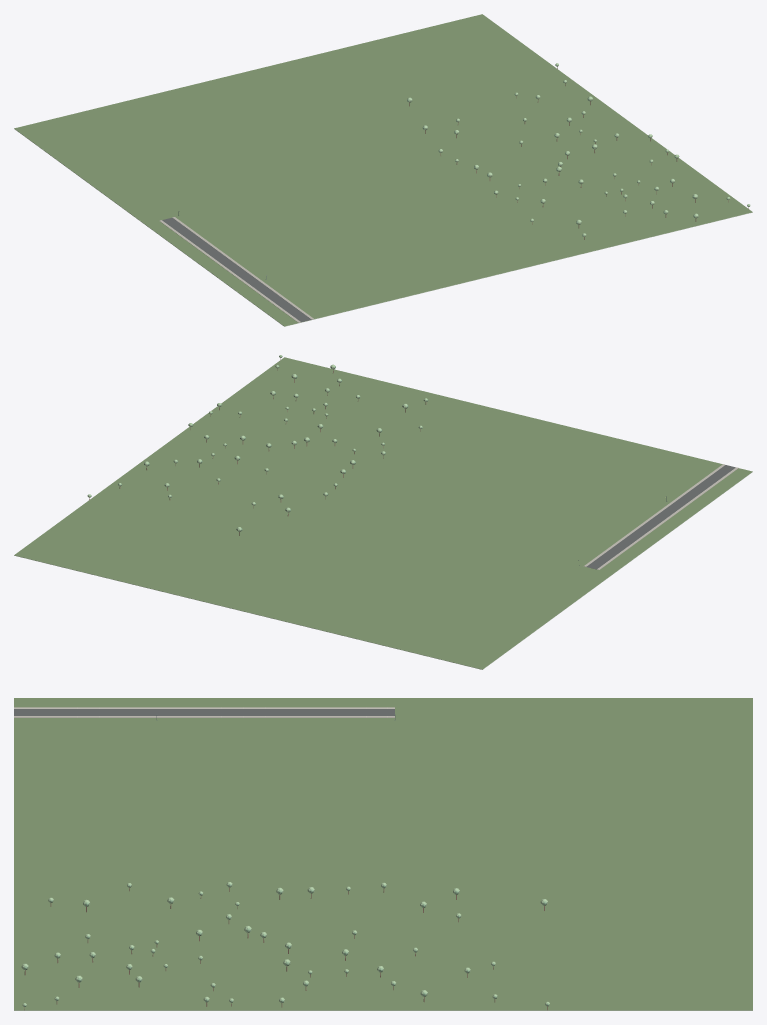
File: chunk_2_0_high.glb
3 renders of one model, top to bottom at view 1: azimuth 30°, elevation 25°; view 2: azimuth 150°, elevation 25°; view 3: azimuth 270°, elevation 25°, orthographic. The views are drawn at different scales.
Parts seen in each view (by area): view 1: city_forest_floor, city_world_asphalt, city_world_sidewalk, city_foliage, city_grass; view 2: city_forest_floor, city_world_asphalt, city_foliage, city_world_sidewalk, city_grass; view 3: city_forest_floor, city_world_asphalt, city_world_sidewalk, city_foliage, city_grass, city_foliage_dark.
Boxes of the visible parts, left/top/right/bottom form: city_forest_floor: left=14, top=14, right=752, bottom=326; city_world_asphalt: left=162, top=217, right=311, bottom=322; city_world_sidewalk: left=159, top=217, right=313, bottom=322; city_foliage: left=407, top=63, right=750, bottom=236; city_grass: left=14, top=129, right=752, bottom=326; city_forest_floor: left=14, top=357, right=752, bottom=669; city_world_asphalt: left=586, top=465, right=735, bottom=569; city_foliage: left=87, top=355, right=427, bottom=531; city_world_sidewalk: left=584, top=464, right=738, bottom=569; city_grass: left=14, top=472, right=752, bottom=669; city_forest_floor: left=14, top=698, right=752, bottom=1010; city_world_asphalt: left=14, top=709, right=394, bottom=715; city_world_sidewalk: left=14, top=707, right=394, bottom=717; city_foliage: left=21, top=882, right=549, bottom=1006; city_grass: left=14, top=1010, right=752, bottom=1010; city_foliage_dark: left=23, top=884, right=549, bottom=1006.
Bounding box in the file's own units: 514 × 9.72 × 512.
